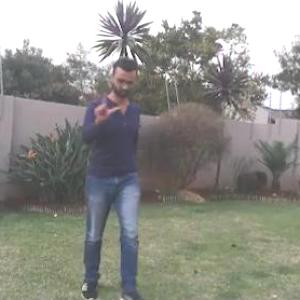land_hand: (90, 85, 122, 124)
